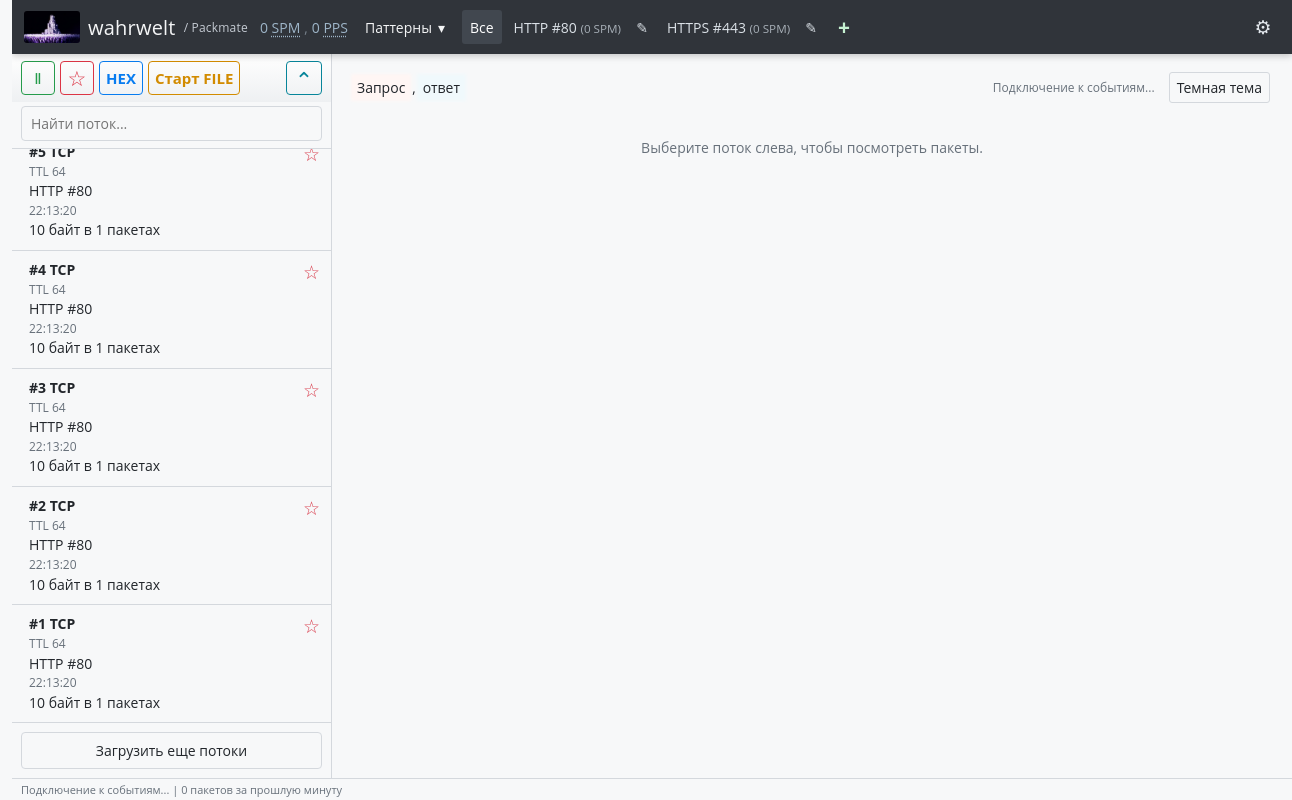
it: смена выборки во время загрузки › не добавляет позднюю страницу потоков к выбранному другому сервису
(page scrolled)
Click the button "Загрузить еще потоки": (172, 751) [21,732,322,770]
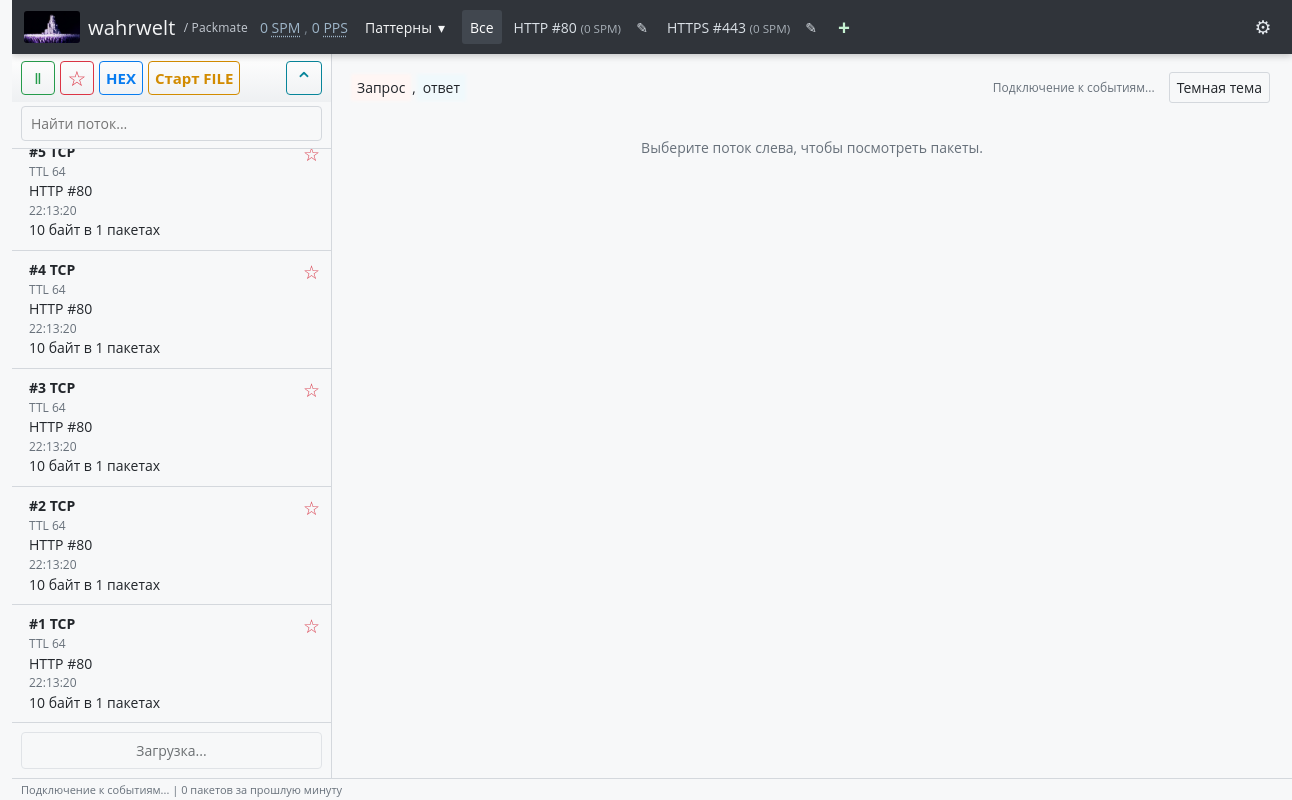
Click the button "HTTPS #443 (0 SPM)": (729, 27) [659,10,798,44]
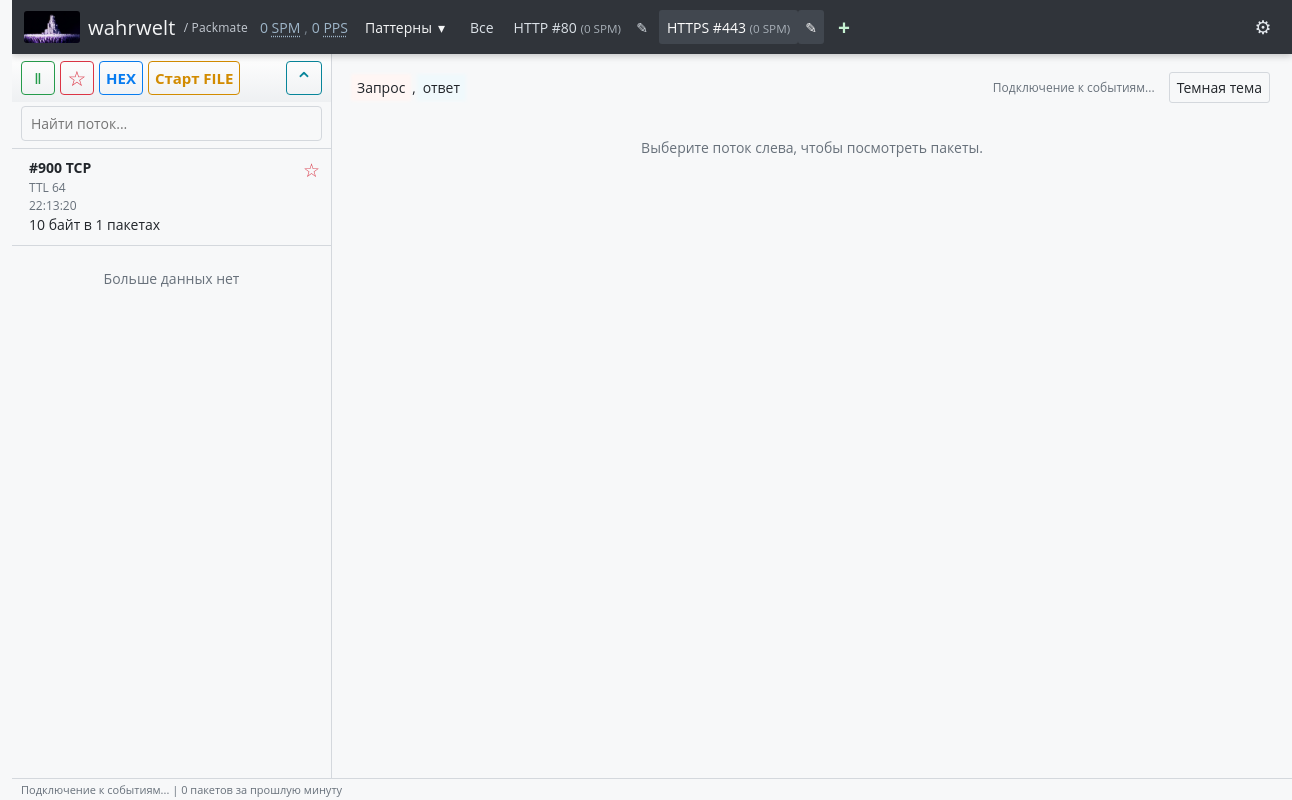
Expected: the button "#900 TCP TTL 64 22:13:20 10 байт в 1 пакетах" is shown, [12,149,331,245]
